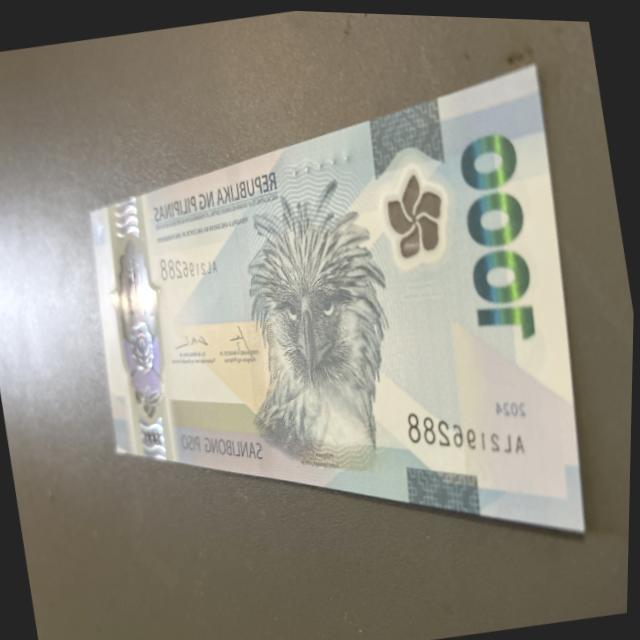clear_window: (97, 222, 190, 436)
eagle: (225, 187, 406, 483)
sampaguita: (369, 165, 453, 275)
serial_number: (395, 377, 532, 477), (159, 244, 227, 302)
value: (433, 95, 553, 364)
